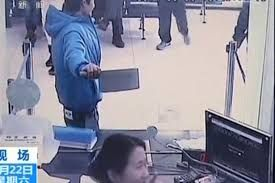gun: (80, 61, 148, 97)
